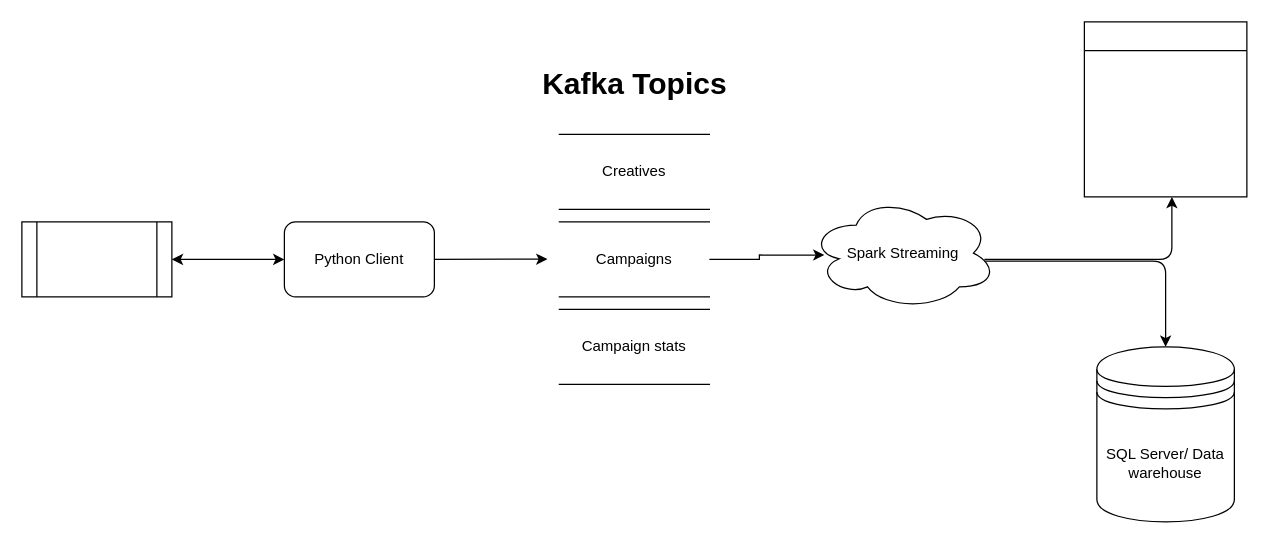
The diagram is 1269 pixels wide and 544 high, and some of its shapes have lost their labels. The centre of each missing label's shape, as x and y in pixels:
"Marketing API" goes at point (96, 259).
"Realtime Dashboard" goes at point (1165, 109).
